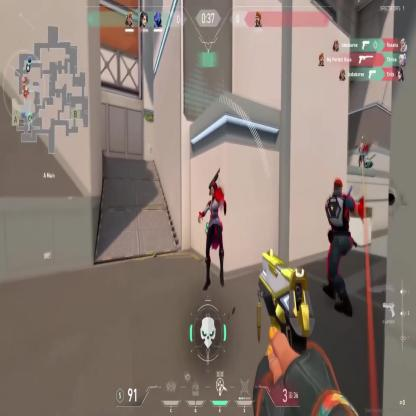enemy: (325, 176, 355, 318)
enemy_head: (333, 177, 343, 197)
